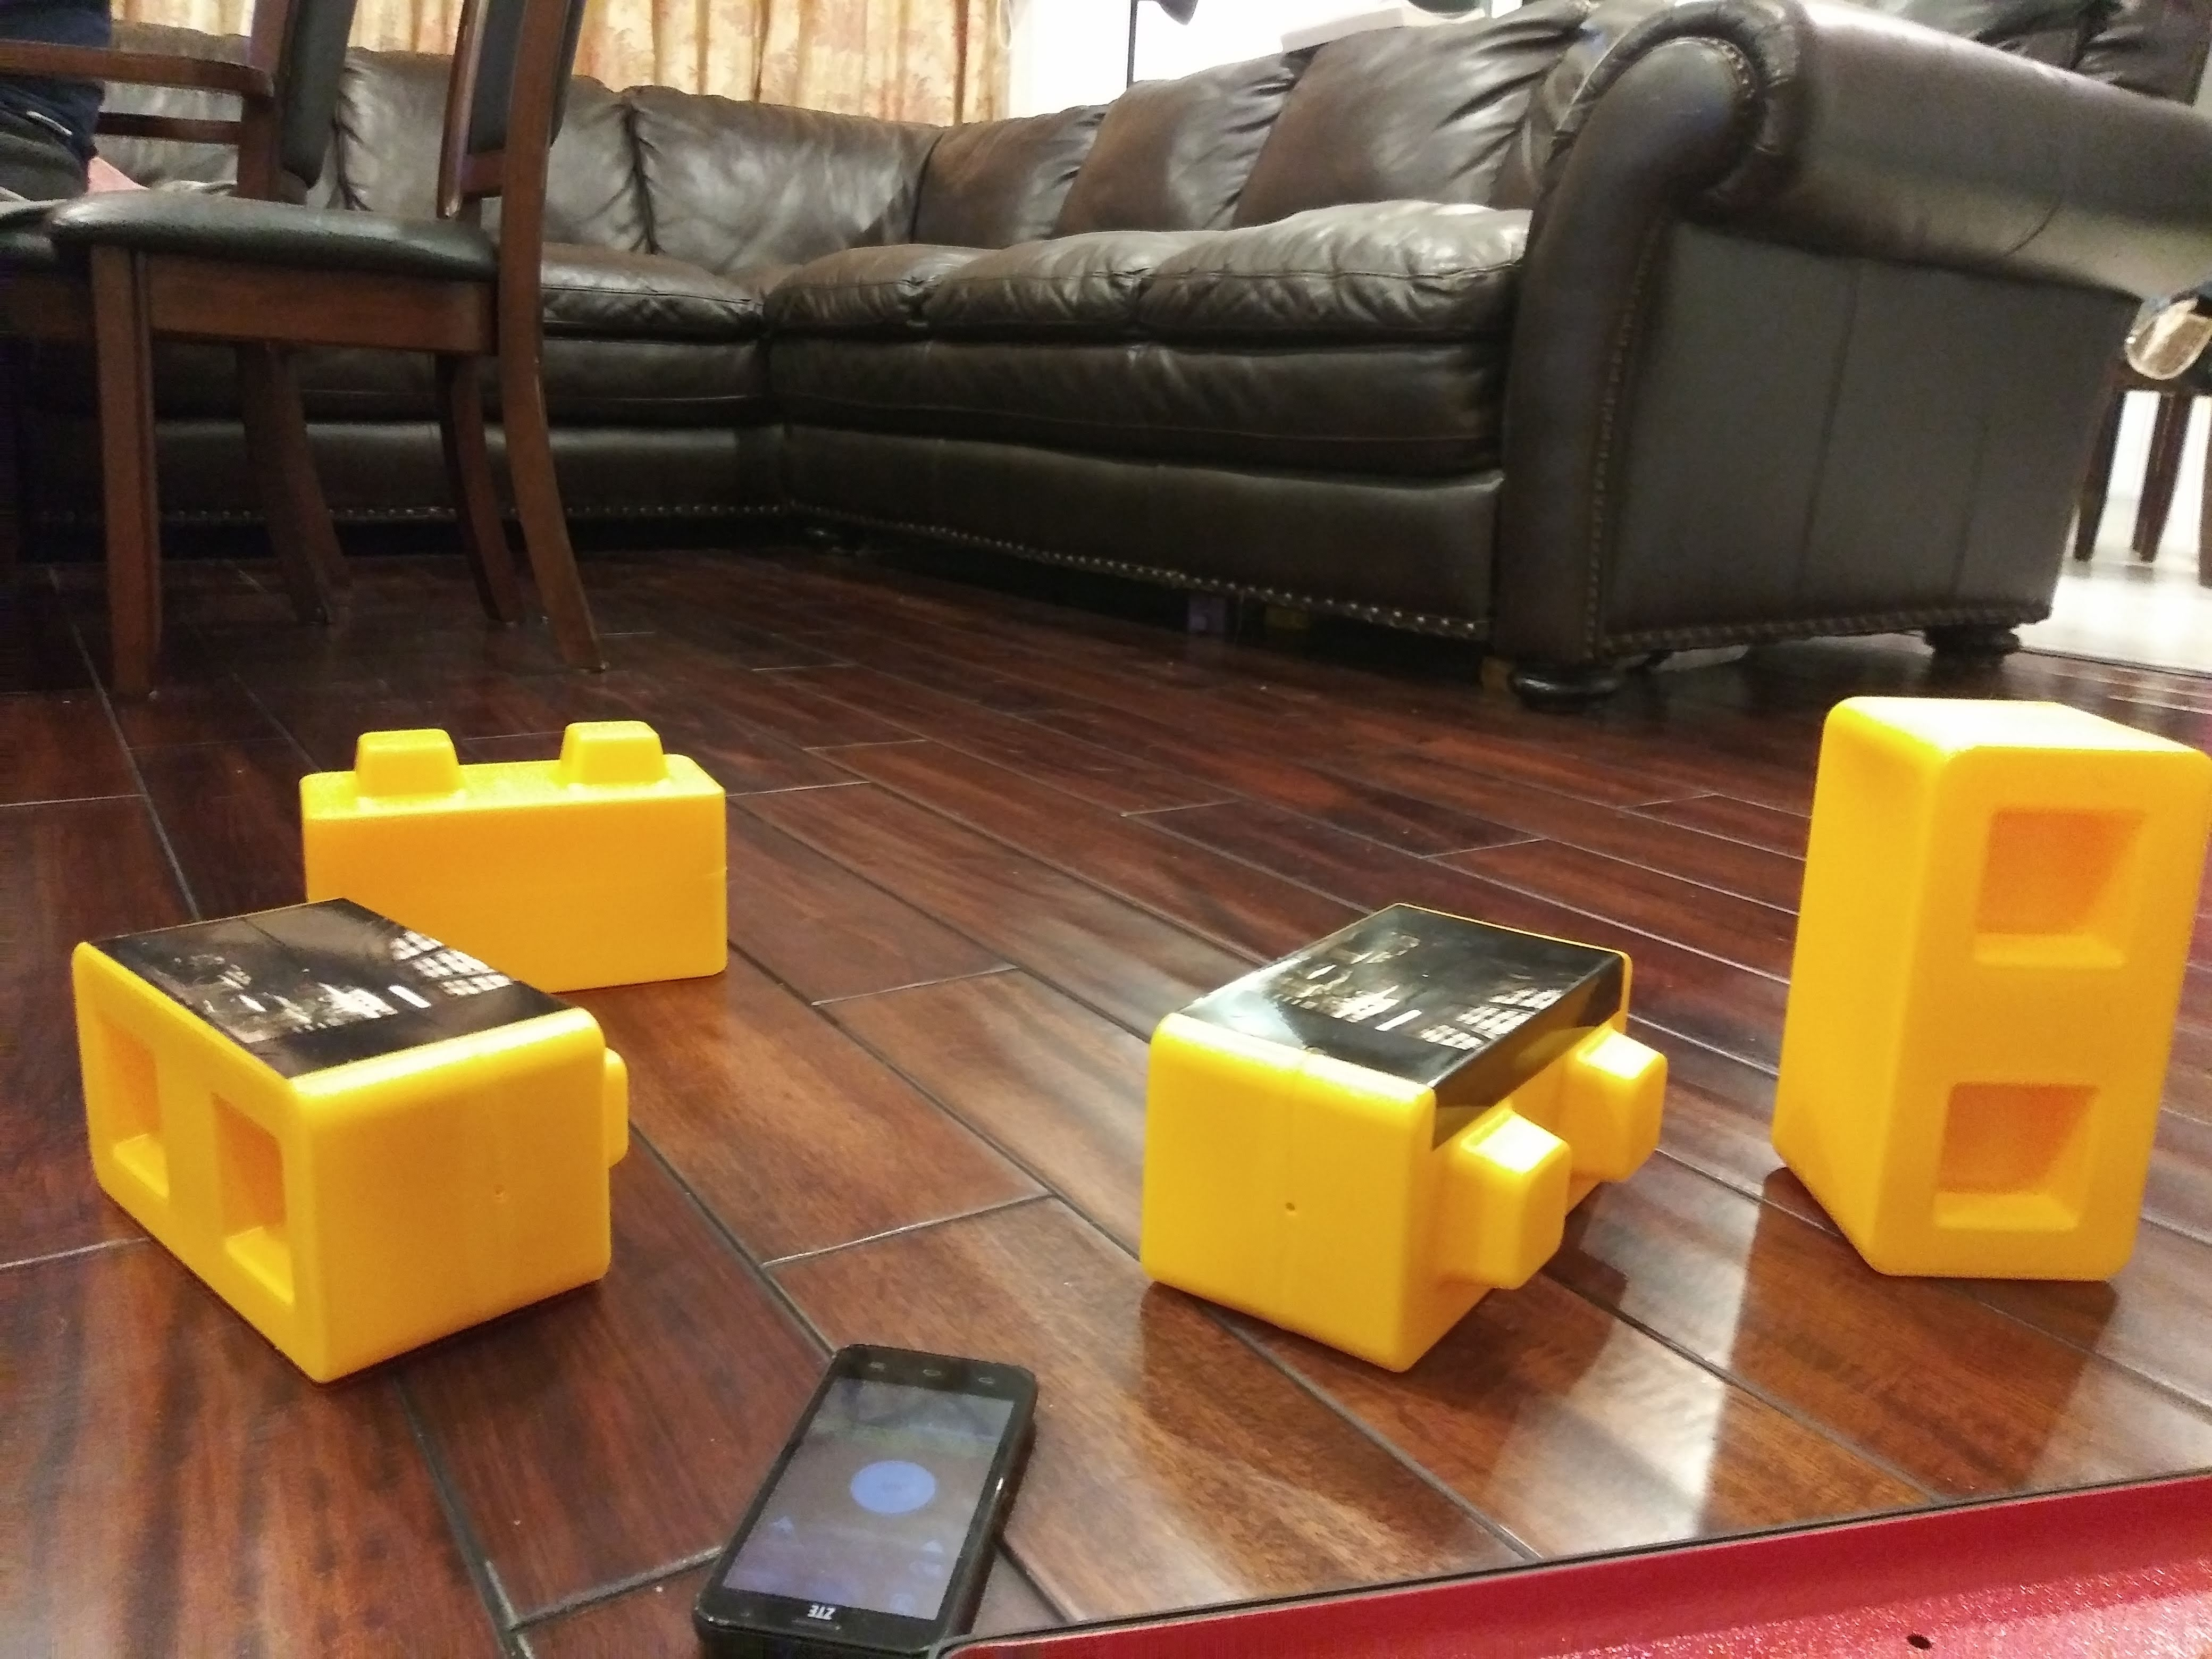skystone: (1143, 906, 1632, 1344), (70, 908, 568, 1303)
stone: (1799, 676, 2170, 1286), (357, 765, 740, 957)
